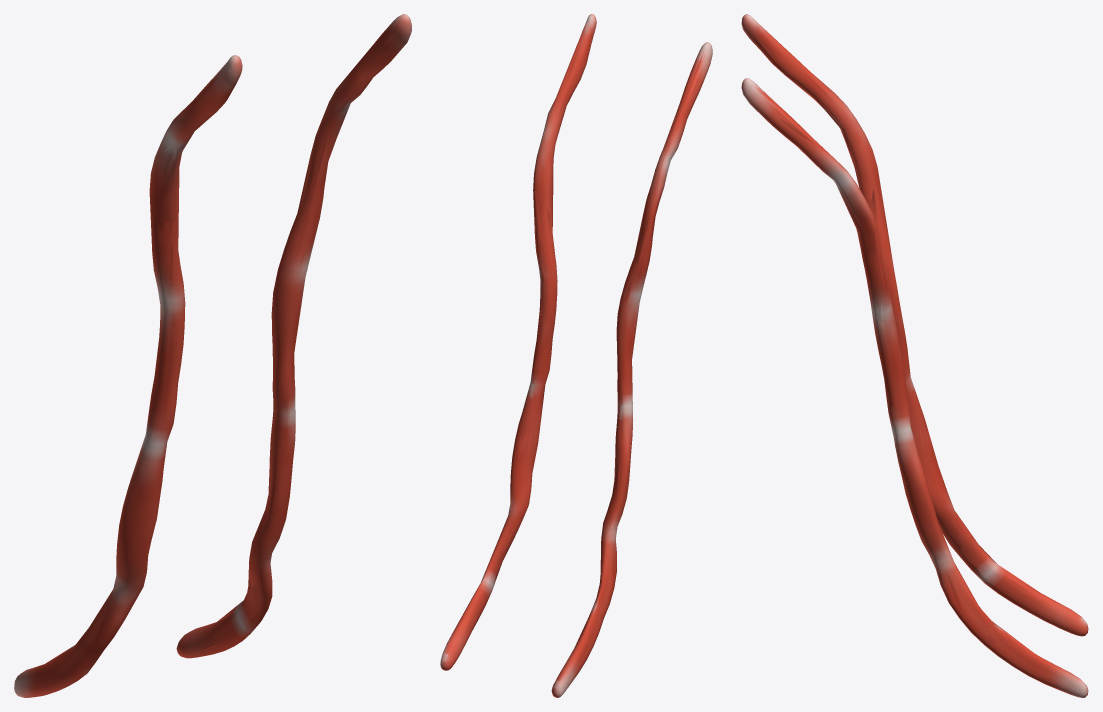
The model's file is Intertransverarii Ventrales.fbx.
The picture shows the model from 3 angles, left to right: view 1: azimuth 30°, elevation 25°; view 2: azimuth 150°, elevation 25°; view 3: azimuth 270°, elevation 25°; orthographic projection. The views are drawn at different scales.
Visible parts, largest first — view 1: Intertransverarii Ventrales, Intertransverarii Ventrales low; view 2: Intertransverarii Ventrales, Intertransverarii Ventrales low; view 3: Intertransverarii Ventrales, Intertransverarii Ventrales low.
Part boxes in pixels (<box>): Intertransverarii Ventrales: <box>14,14,411,697</box>; Intertransverarii Ventrales low: <box>45,21,405,671</box>; Intertransverarii Ventrales: <box>440,14,712,697</box>; Intertransverarii Ventrales low: <box>445,19,710,686</box>; Intertransverarii Ventrales: <box>741,14,1088,697</box>; Intertransverarii Ventrales low: <box>745,21,1084,657</box>.
Size of the model in its own units: 12.45 by 50.84 by 25.79.
1 material, 1 textured.
